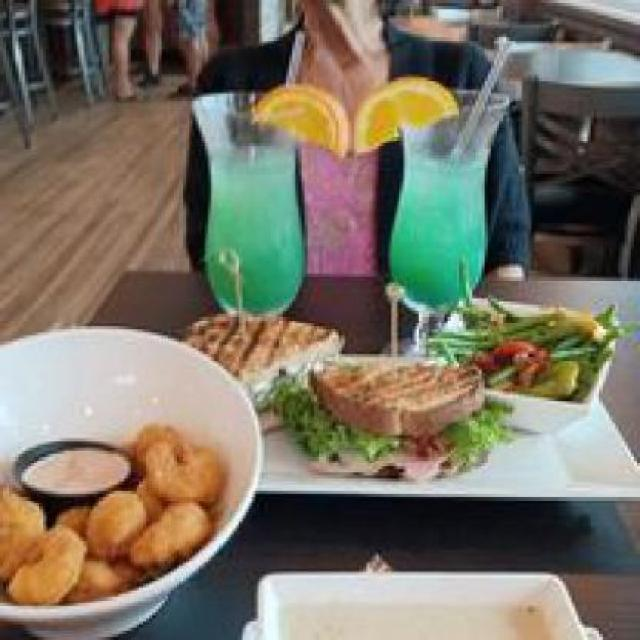clam chowder: (260, 558, 574, 637)
club sandwich: (195, 292, 476, 451)
gnocchi: (9, 419, 223, 599)
